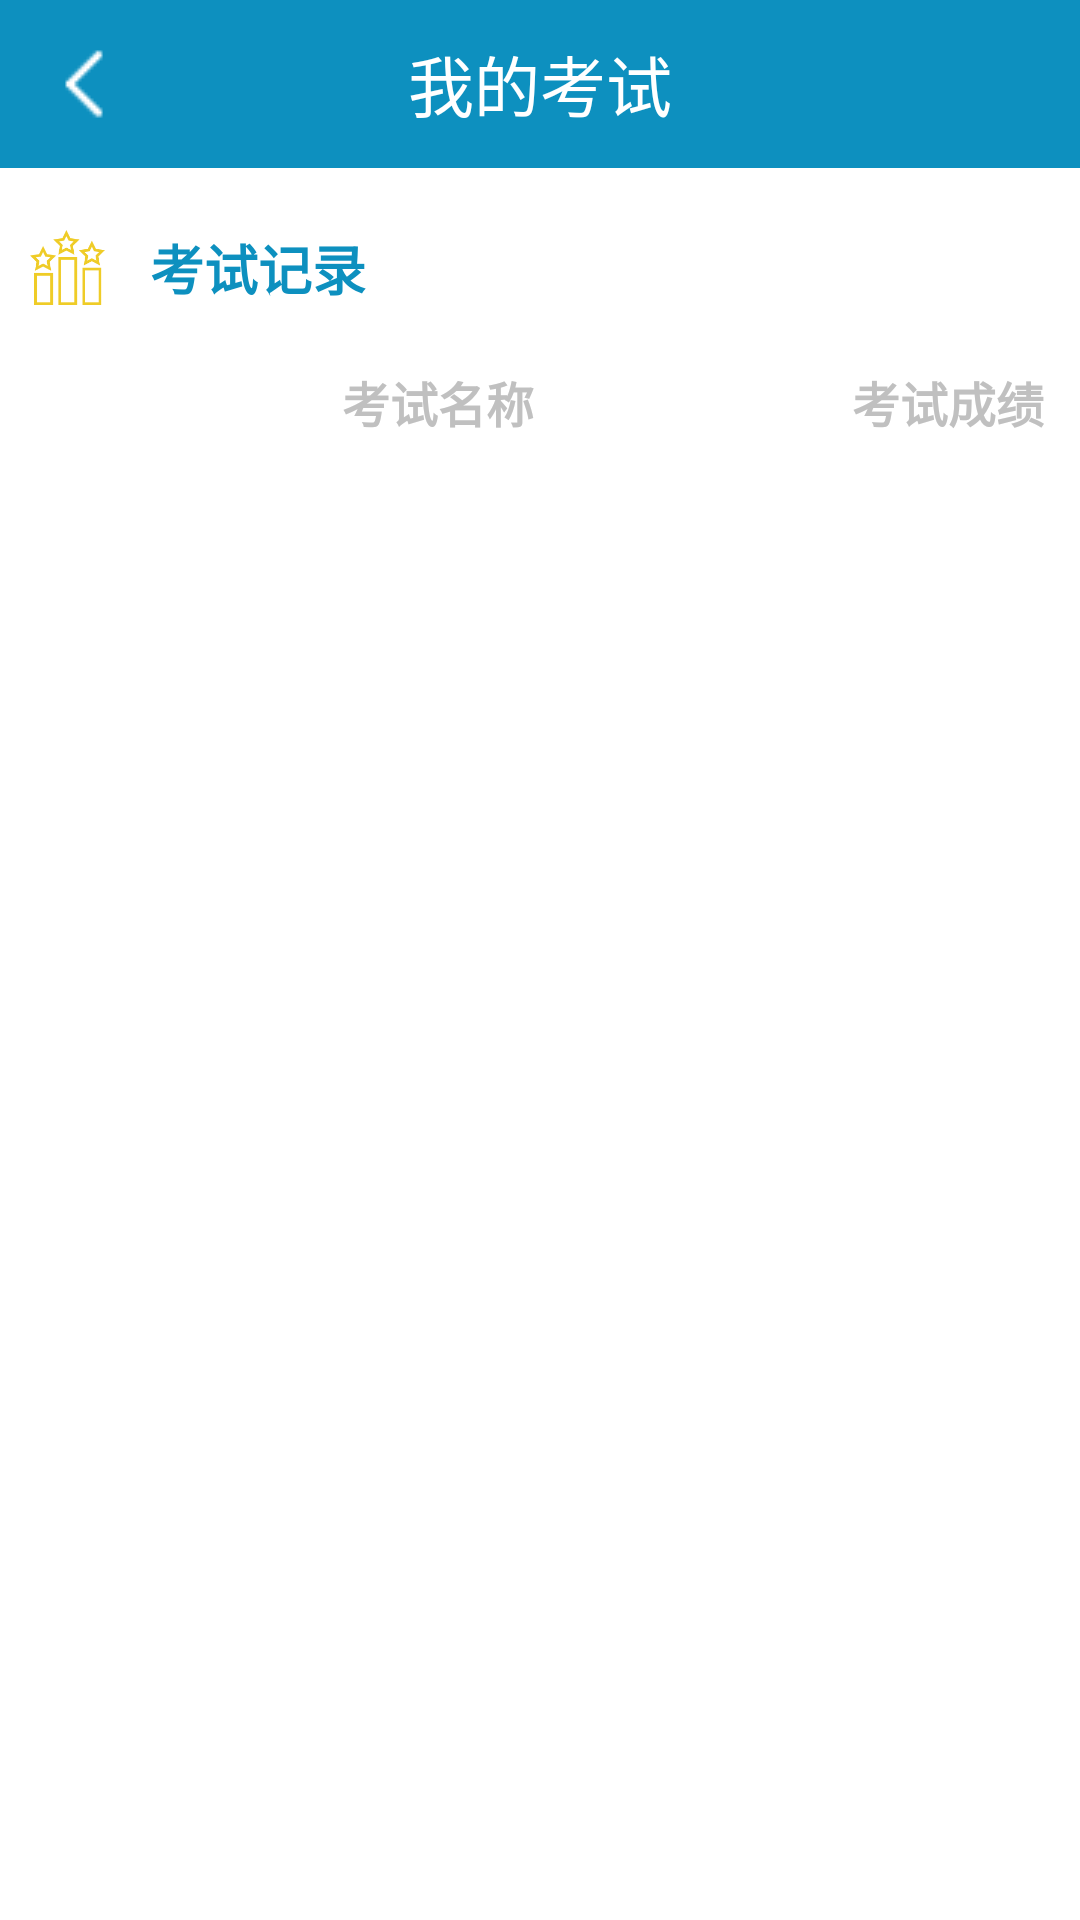

Icon bounding boxes for this 1080 × 1920 phone screenshot, format (x1, y1, x2, y2):
paiming: (30, 230, 105, 305)
